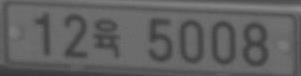0: (179, 19, 205, 61), (211, 20, 235, 63)
1: (35, 13, 55, 52)
2: (64, 14, 87, 58)
5: (148, 18, 173, 61)
8: (242, 23, 269, 65)
육: (93, 17, 120, 57)
